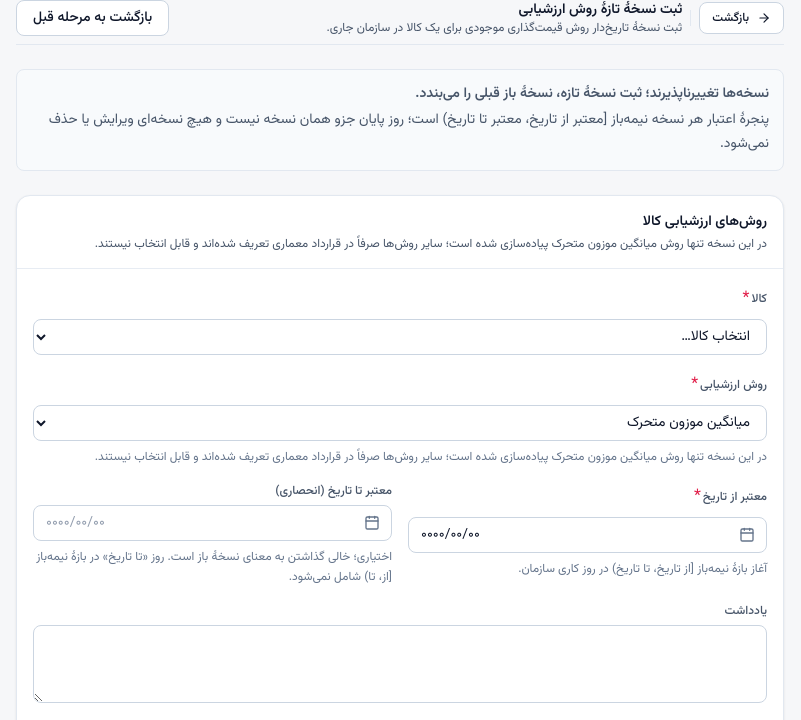
Scenario: ValuationMethodFormPage — UI options, submission, invalidation, errors & dirty guard › surfaces 409 Conflict and 422 overlapping_version as persistent Persian alerts while keeping user input
Type "توضیح مهم کاربر" into the text box labelled "یادداشت" at (400, 664), box [33, 625, 767, 703]
(page scrolled)
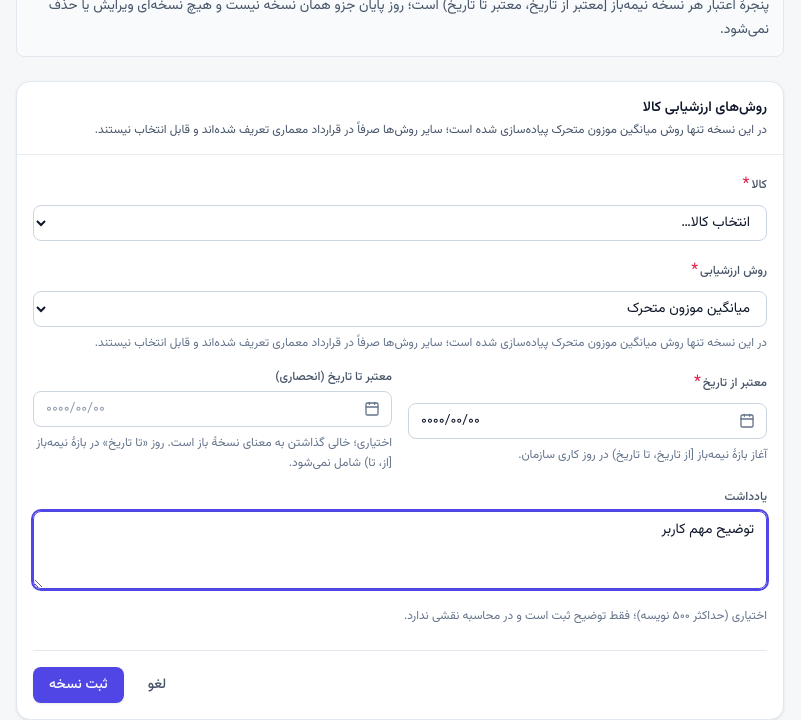
Click the button "ثبت نسخه" at (78, 685), box [33, 667, 124, 703]
(page scrolled)
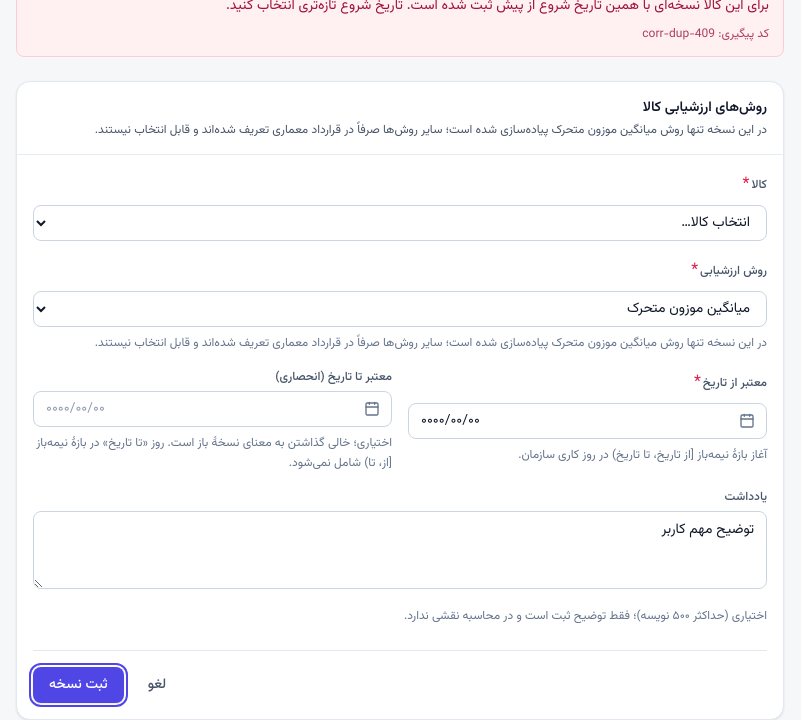
Expected: the message shows "corr-dup-409", [642, 25, 715, 43]
Click the button "ثبت نسخه" at (78, 685), box [33, 667, 124, 703]
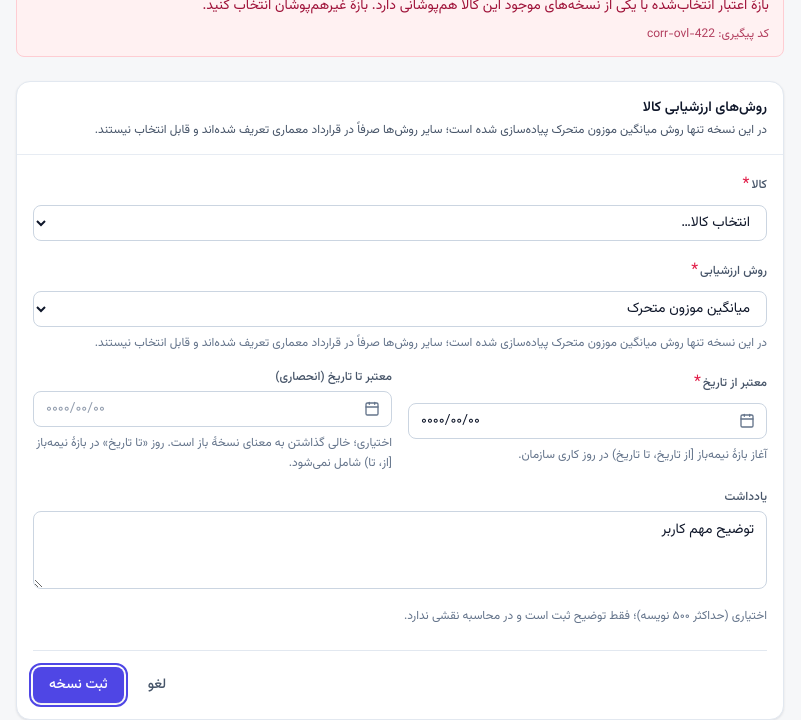
Expected: the message shows "corr-ovl-422", [647, 25, 715, 43]
